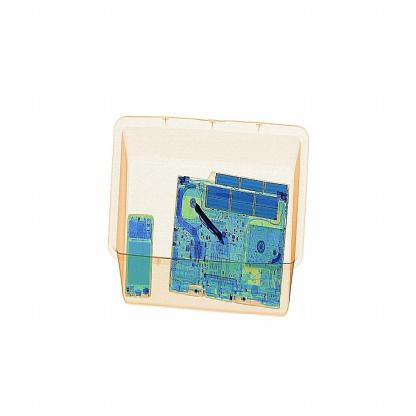knife: (189, 194, 234, 266)
